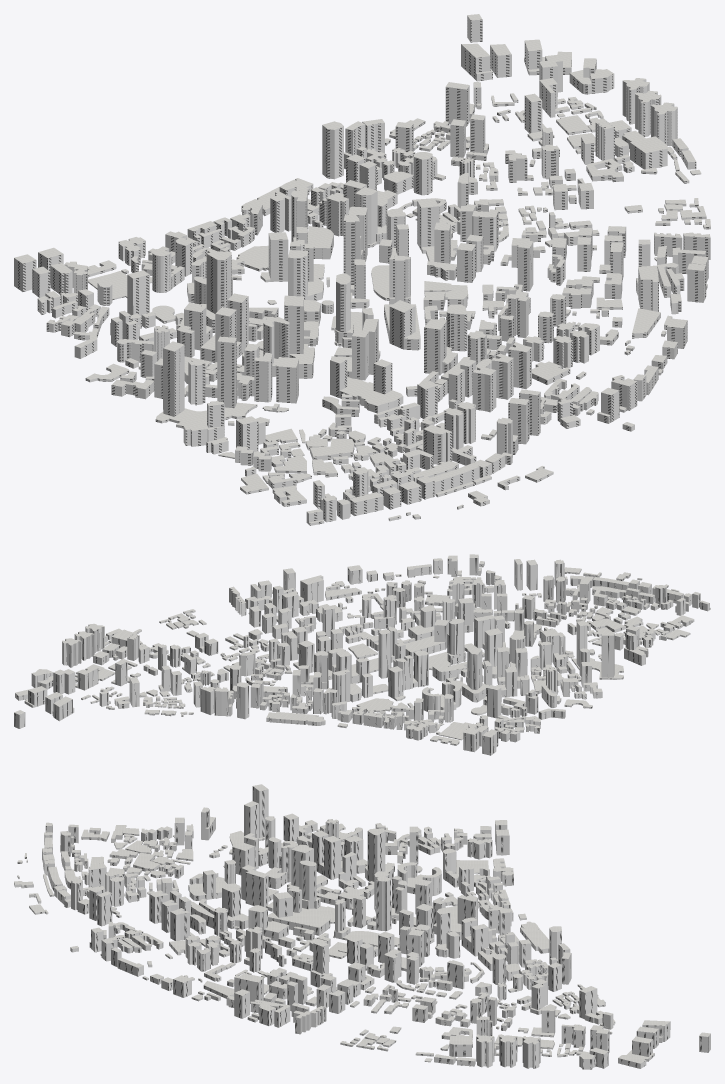
File: NoLod_0.glb
The picture shows the model from 3 angles, top to bottom: view 1: azimuth 30°, elevation 25°; view 2: azimuth 150°, elevation 25°; view 3: azimuth 270°, elevation 25°; orthographic projection. The views are drawn at different scales.
Parts seen in each view (by area): view 1: rtc; view 2: rtc; view 3: rtc.
Part boxes in pixels (x1,y1,x2,y2): rtc: (14,14,710,525); rtc: (14,554,710,755); rtc: (14,784,710,1069).
Bounding box in the file's own units: 1772 × 168 × 2136.
2 materials, 2 textured.
